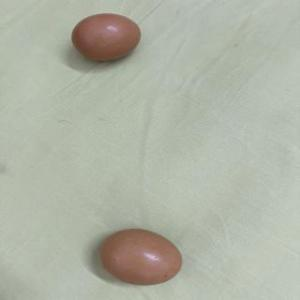egg: (94, 226, 188, 286), (70, 11, 144, 61)
